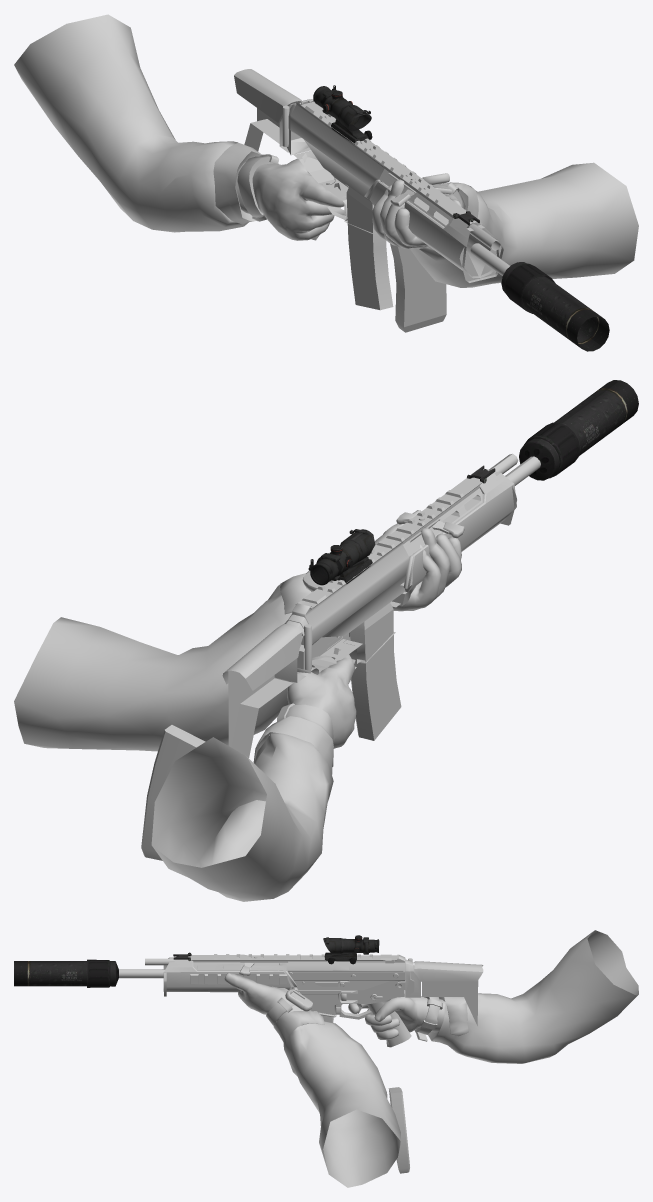
The model's file is Idle.FBX.
3 views of the same model, one above another, from view 1: azimuth 30°, elevation 25°; view 2: azimuth 150°, elevation 25°; view 3: azimuth 270°, elevation 25° (orthographic). The views are drawn at different scales.
Parts seen in each view (by area): view 1: SMDImport; view 2: SMDImport; view 3: SMDImport.
Part boxes in pixels (<box>): SMDImport: <box>14,14,638,351</box>; SMDImport: <box>14,380,638,901</box>; SMDImport: <box>14,930,638,1187</box>.
Bounding box in the file's own units: 29.17 × 19.72 × 58.15.
